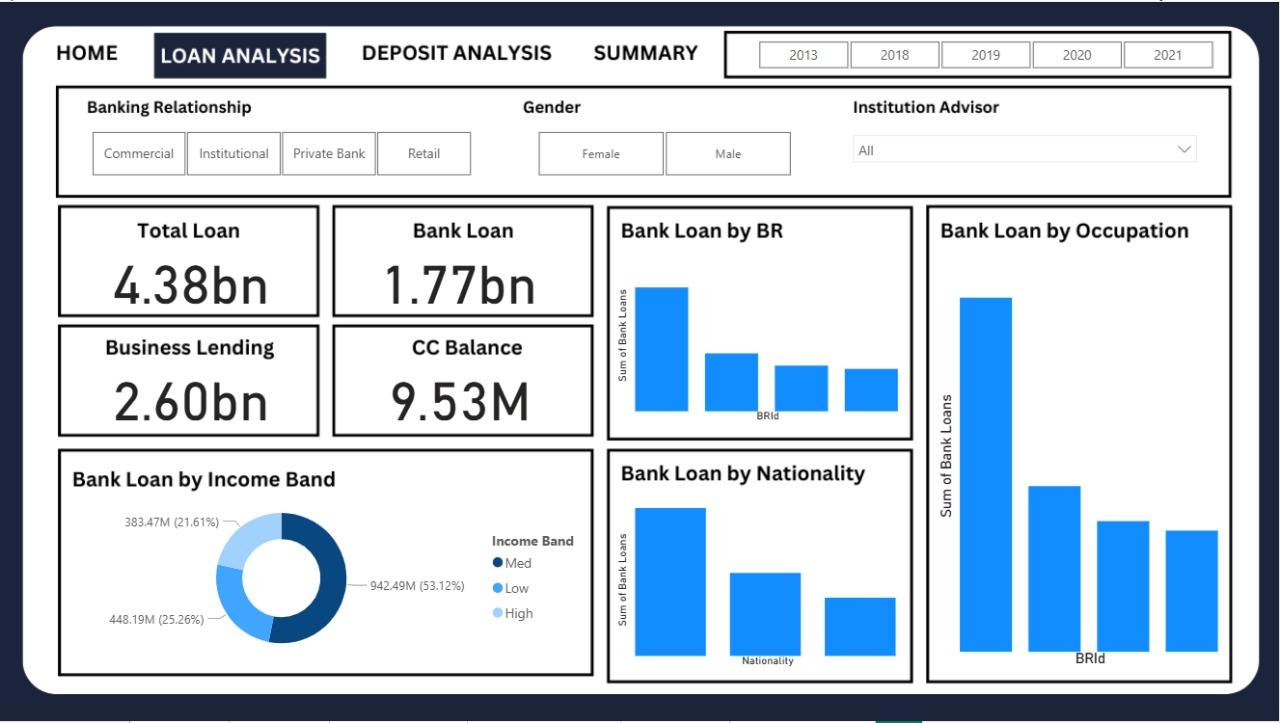

This screenshot's page, from the dashboard's own definition file:
{"tool":"powerbi","page":{"name":"Loan Analysis","canvas":[1280,720],"ordinal":2},"visuals":[{"type":"slicer","fields":{"Values":["banking_case customer.Year of Joining"]},"box":[733.3,32.2,504.1,34.9],"z":0},{"type":"actionButton","box":[36.4,31.7,99.7,39.6],"z":1000},{"type":"actionButton","box":[348.2,31.7,221.6,39.6],"z":2000},{"type":"actionButton","box":[587.1,31.7,123.4,39.6],"z":3000},{"type":"card","fields":{"Values":["banking_case customer.Total Loan"]},"box":[100.9,243.7,179.5,65.5],"z":4000},{"type":"card","fields":{"Values":["Sum(banking_case customer.Bank Loans)"]},"box":[369.5,243.7,179.5,65.5],"z":5000},{"type":"card","fields":{"Values":["Sum(banking_case customer.Business Lending)"]},"box":[100.9,360.4,179.5,65.5],"z":6000},{"type":"card","fields":{"Values":["Sum(banking_case customer.Credit Card Balance)"]},"box":[370.8,360.4,179.5,65.5],"z":7000},{"type":"donutChart","fields":{"Category":["banking_case customer.Income Band"],"Y":["Sum(banking_case customer.Bank Loans)"]},"box":[66.8,488.8,530.7,176.9],"z":8000},{"type":"clusteredColumnChart","fields":{"Category":["banking_case customer.BRId"],"Y":["Sum(banking_case customer.Bank Loans)"]},"box":[613.3,243.7,293.5,182.1],"z":9000},{"type":"clusteredColumnChart","fields":{"Category":["banking_case customer.Nationality"],"Y":["Sum(banking_case customer.Bank Loans)"]},"box":[613.3,488.8,293.5,182.1],"z":10000},{"type":"clusteredColumnChart","fields":{"Category":["banking_case customer.BRId"],"Y":["Sum(banking_case customer.Bank Loans)"]},"box":[933.7,245.3,292.8,425.7],"z":11000},{"type":"slicer","fields":{"Values":["banking_case customer.BRId"]},"box":[66.8,123.2,428.5,57.7],"z":12000},{"type":"slicer","fields":{"Values":["banking_case customer.GenderId"]},"box":[512.4,123.2,302.7,57.7],"z":13000},{"type":"slicer","fields":{"Values":["banking_case customer.IAId"]},"box":[843.9,123.2,364.3,57.7],"z":14000}]}

Visuals, with their boxes in screenshot pixels (x1, y1, x2, y2), scaled from the page's 1280x720 canvas onto the 1280x723 screenshot:
slicer - banking_case customer.Year of Joining: rect(733, 32, 1237, 67)
actionButton: rect(36, 32, 136, 72)
actionButton: rect(348, 32, 570, 72)
actionButton: rect(587, 32, 710, 72)
card - banking_case customer.Total Loan: rect(101, 245, 280, 310)
card - Sum(banking_case customer.Bank Loans): rect(370, 245, 549, 310)
card - Sum(banking_case customer.Business Lending): rect(101, 362, 280, 428)
card - Sum(banking_case customer.Credit Card Balance): rect(371, 362, 550, 428)
donutChart - banking_case customer.Income Band x Sum(banking_case customer.Bank Loans): rect(67, 491, 598, 668)
clusteredColumnChart - banking_case customer.BRId x Sum(banking_case customer.Bank Loans): rect(613, 245, 907, 428)
clusteredColumnChart - banking_case customer.Nationality x Sum(banking_case customer.Bank Loans): rect(613, 491, 907, 674)
clusteredColumnChart - banking_case customer.BRId x Sum(banking_case customer.Bank Loans): rect(934, 246, 1226, 674)
slicer - banking_case customer.BRId: rect(67, 124, 495, 182)
slicer - banking_case customer.GenderId: rect(512, 124, 815, 182)
slicer - banking_case customer.IAId: rect(844, 124, 1208, 182)
